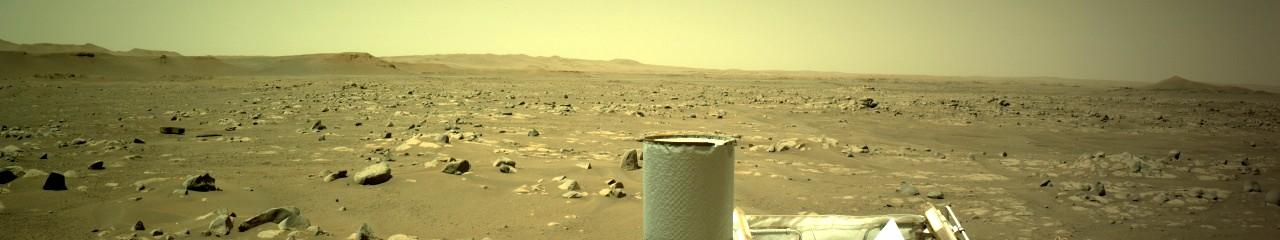bedrock: (115, 79, 1271, 236), (74, 208, 410, 237), (5, 108, 43, 231), (356, 234, 451, 237), (705, 125, 750, 126)
sand: (44, 101, 104, 107), (750, 127, 753, 136)
soil: (388, 203, 640, 235), (43, 232, 67, 235)
